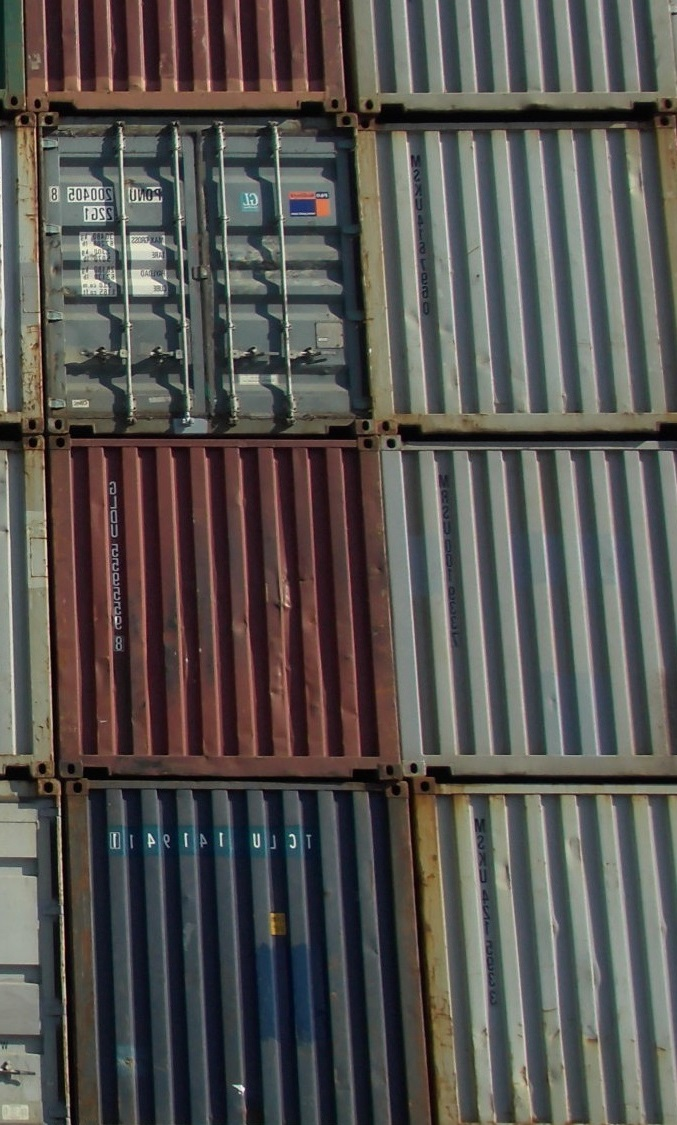container_door: (50, 112, 360, 434)
container_no_door: (59, 782, 422, 1125), (64, 434, 380, 776), (378, 433, 677, 780), (359, 115, 677, 437), (429, 780, 677, 1125), (350, 1, 677, 112), (22, 1, 348, 112)
